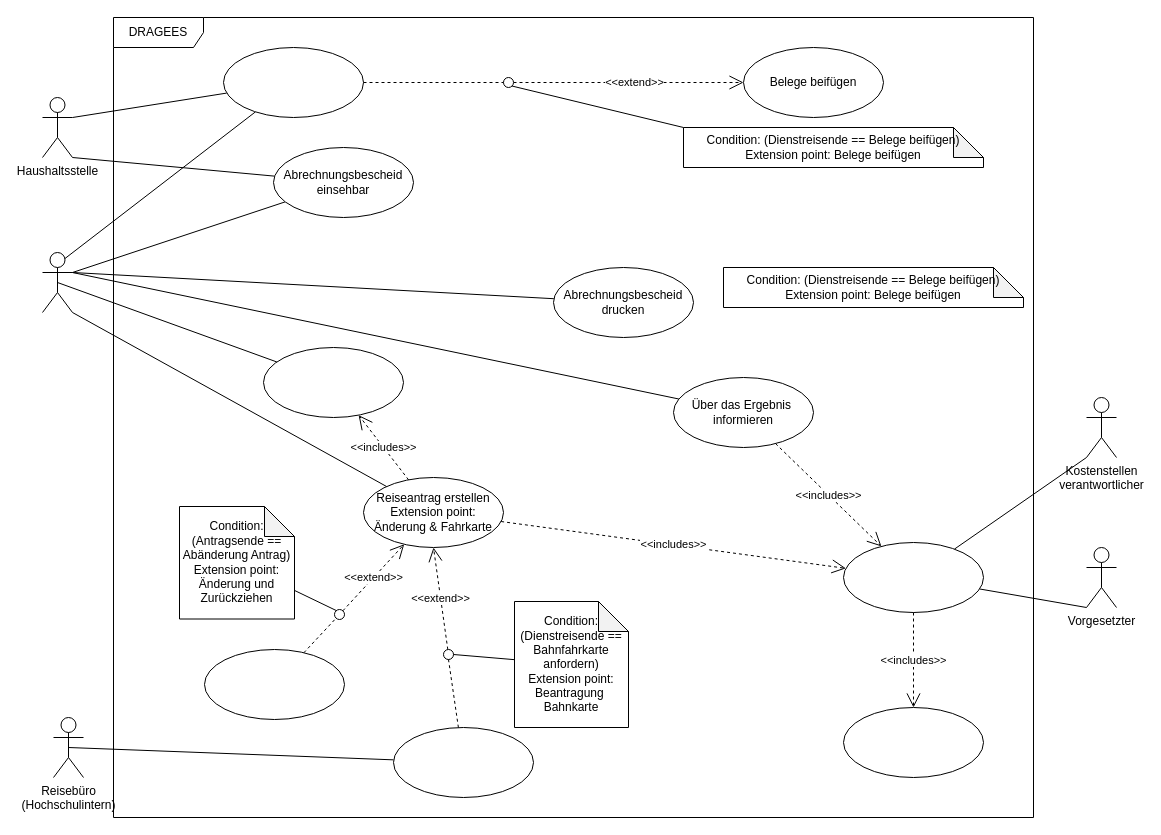
The diagram is 1161 pixels wide and 835 high, and some of its shapes have lost their labels. Each missing label, with the box of its shape:
Antragsteller: (42, 252, 72, 312)
Beantragung Bahnfahrkarte: (392, 726, 534, 798)
Benachrichtigung an Vorgesetzten & Verantwortlichen: (842, 706, 984, 778)
Daten erfassen Datum, Ort, Kosten: (262, 346, 404, 418)
Dienstantrag ändern oder zurückziehen: (204, 648, 344, 720)
Erstellungsantrag: (222, 46, 364, 118)
Genehmigung einholen: (842, 542, 984, 612)
